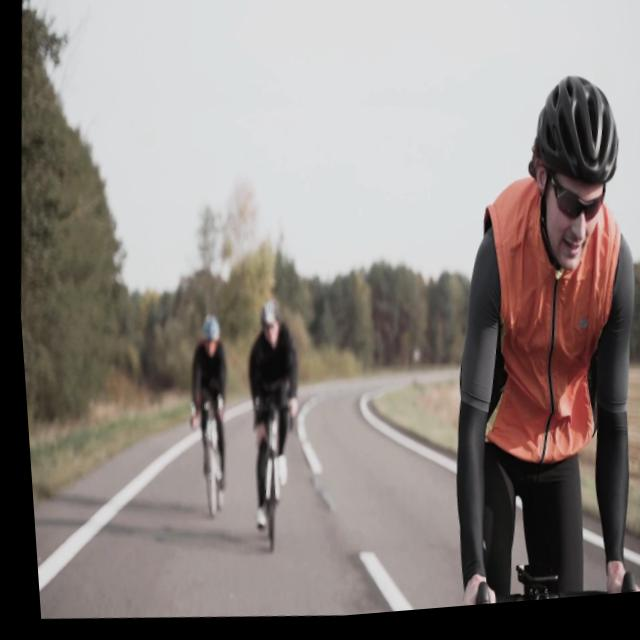helmet: (512, 78, 627, 286)
